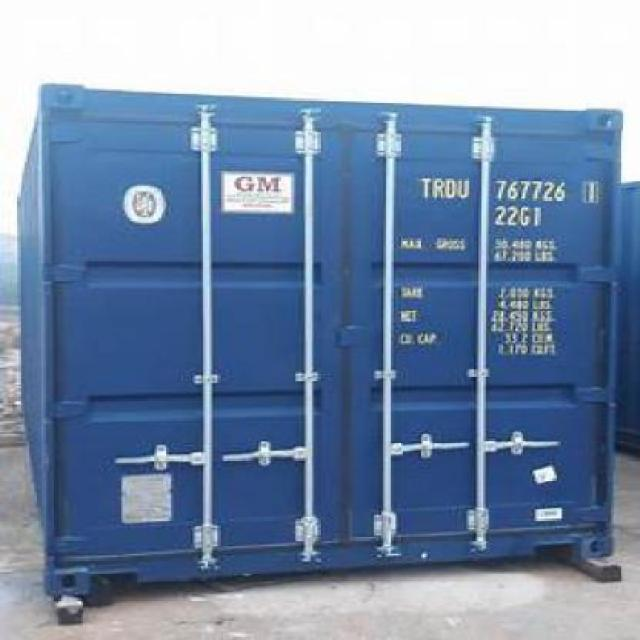ISO: (497, 206, 542, 229)
container_number: (421, 176, 598, 204)
